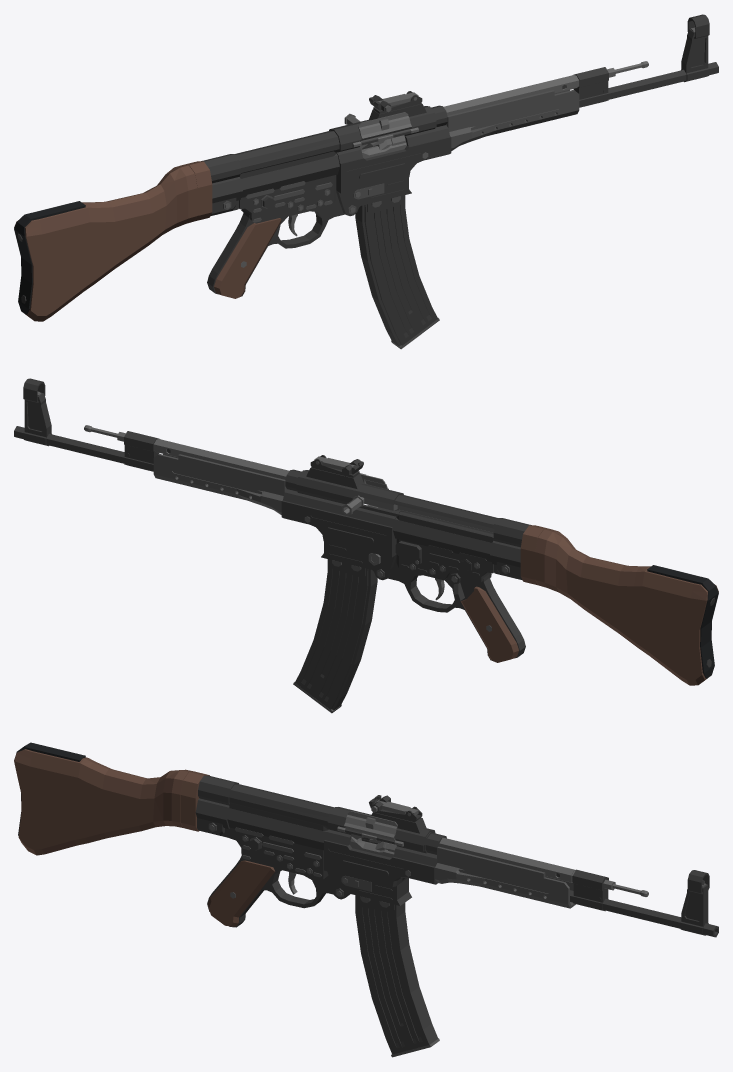
File: STG44.fbx
The picture shows the model from 3 angles, top to bottom: view 1: azimuth 30°, elevation 25°; view 2: azimuth 150°, elevation 25°; view 3: azimuth 330°, elevation 25°; orthographic projection.
Parts seen in each view (by area): view 1: STG_Base, STG_Mag; view 2: STG_Base, STG_Mag; view 3: STG_Base, STG_Mag.
Boxes of the visible parts, bbox=[...] form: STG_Base: bbox=[14, 14, 718, 321]; STG_Mag: bbox=[355, 195, 439, 349]; STG_Base: bbox=[14, 378, 718, 685]; STG_Mag: bbox=[293, 559, 377, 713]; STG_Base: bbox=[14, 742, 718, 937]; STG_Mag: bbox=[355, 895, 439, 1057].
Bounding box in the file's own units: 974 × 342 × 66.98.
